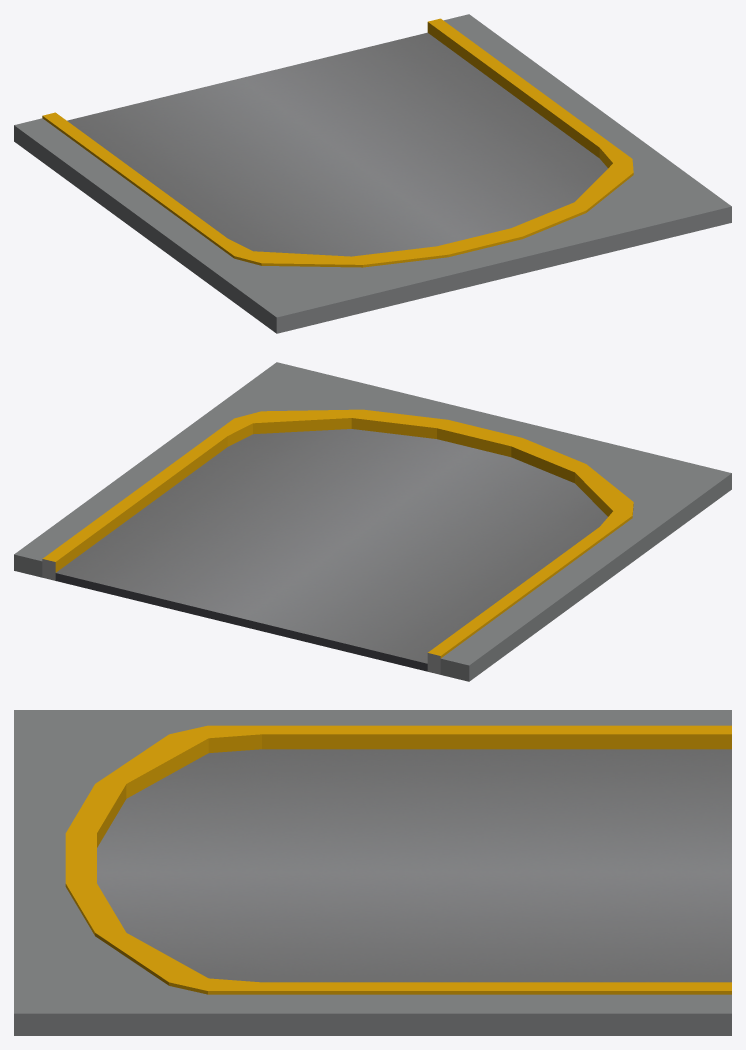
Rendered from Road6_End.dae.
3 renders of one model, top to bottom at view 1: azimuth 30°, elevation 25°; view 2: azimuth 150°, elevation 25°; view 3: azimuth 270°, elevation 25°, orthographic. The views are drawn at different scales.
Visible parts, largest first — view 1: Road6_End; view 2: Road6_End; view 3: Road6_End.
Part boxes in pixels (left/top/right/bottom): Road6_End: left=14, top=14, right=731, bottom=333; Road6_End: left=14, top=362, right=731, bottom=681; Road6_End: left=14, top=710, right=731, bottom=1035.
Bounding box in the file's own units: 12 × 12 × 0.4753.
1 material, 1 textured.
